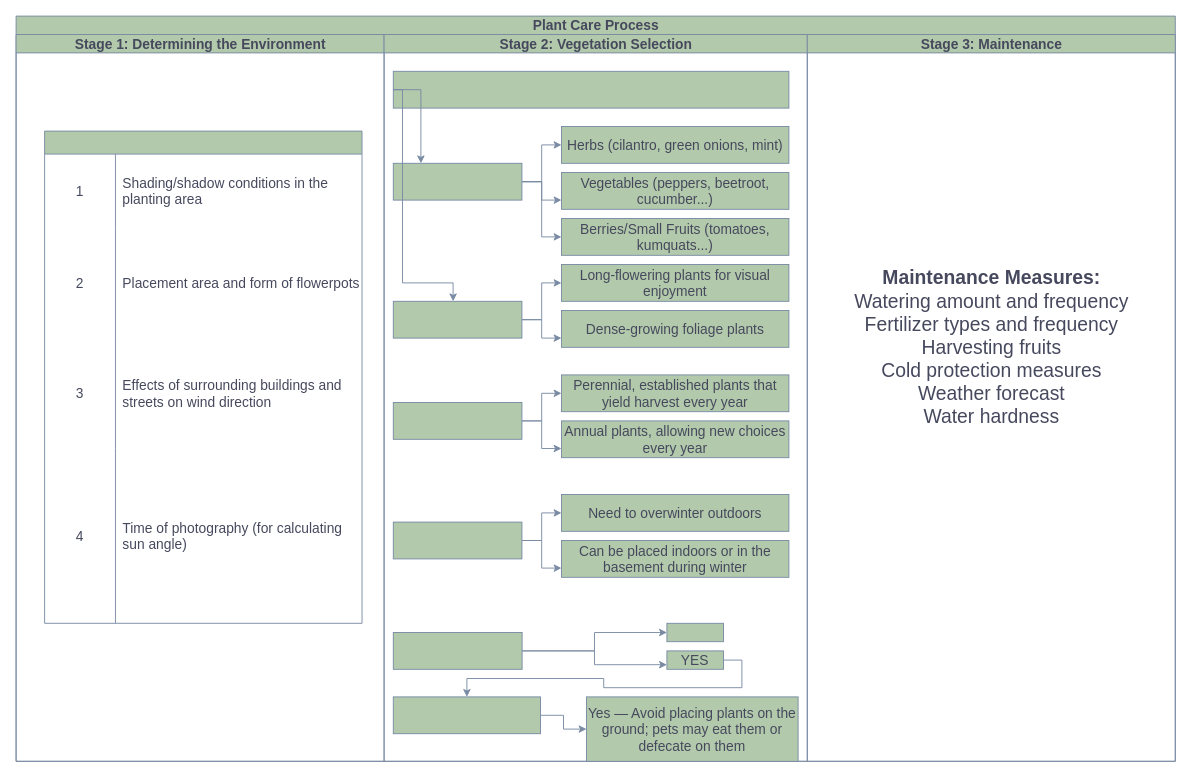
Image size: 1191x777. Some labels were removed from this diagram. The shapes that lost their labels are listed below. From the top down, each one's centre as x and y in pixels, then its label:
(590,89): What kind of plants do you want to grow? (Multiple choices)
(457,181): Edible Plants
(457,319): Ornamental Plants
(457,420): Planting Cycle
(457,540): Winter Care
(457,650): Do you have pets?
(694,632): NO
(466,715): Do pets access the balcony?
